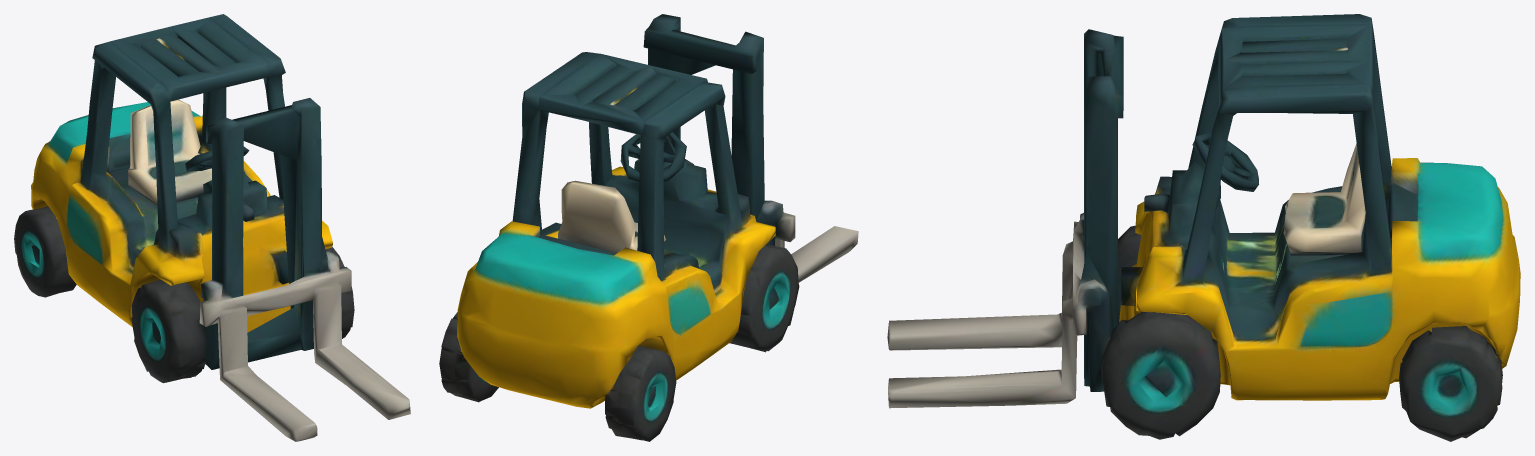
File: static-candidate.glb
3 renders of one model, left to right at view 1: azimuth 30°, elevation 25°; view 2: azimuth 150°, elevation 25°; view 3: azimuth 270°, elevation 25°, orthographic. The views are drawn at different scales.
Visible parts, largest first — view 1: factory-forklift; view 2: factory-forklift; view 3: factory-forklift.
Part boxes in pixels (x1,y1,x2,y2): factory-forklift: (14, 14, 410, 441); factory-forklift: (439, 14, 858, 441); factory-forklift: (887, 14, 1520, 441).
Size of the model in its own units: 1.61 by 2.2 by 3.79.
1 material, 1 textured.
